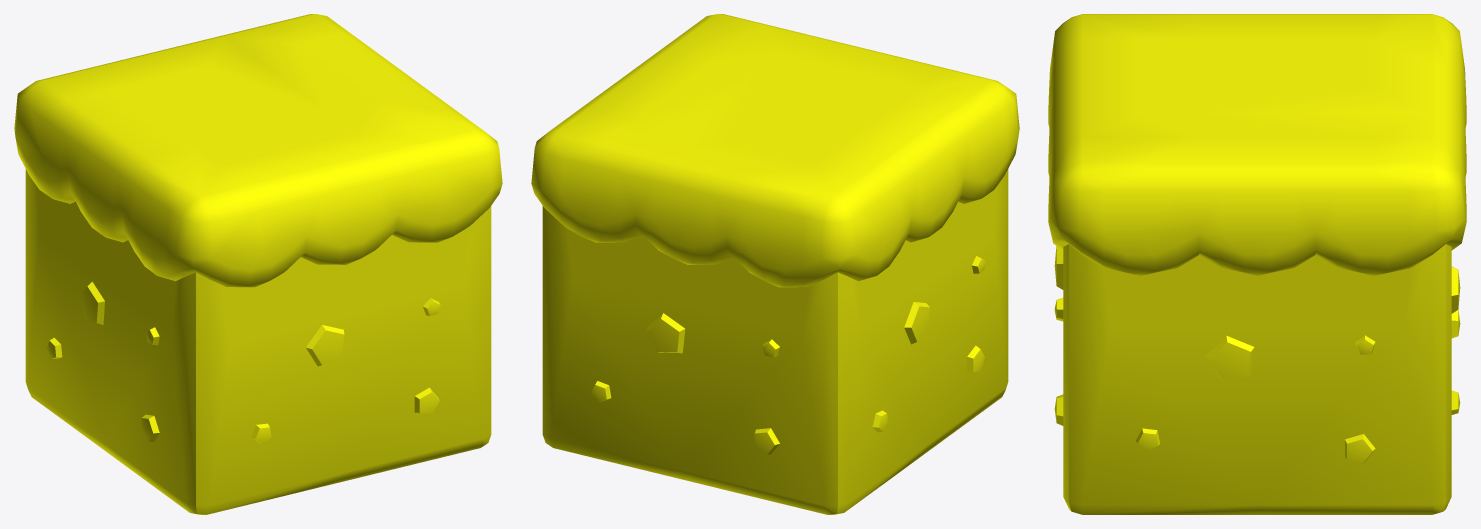
The model's file is kaykit-gravel-with-snow.glb.
3 views of the same model, side by side, from view 1: azimuth 30°, elevation 25°; view 2: azimuth 150°, elevation 25°; view 3: azimuth 270°, elevation 25° (orthographic). The views are drawn at different scales.
Parts seen in each view (by area): view 1: gravel_with_snow; view 2: gravel_with_snow; view 3: gravel_with_snow.
Part boxes in pixels (<box>): gravel_with_snow: <box>14,14,502,514</box>; gravel_with_snow: <box>531,14,1019,514</box>; gravel_with_snow: <box>1048,14,1466,514</box>.
Bounding box in the file's own units: 2.16 × 2.04 × 2.16.
